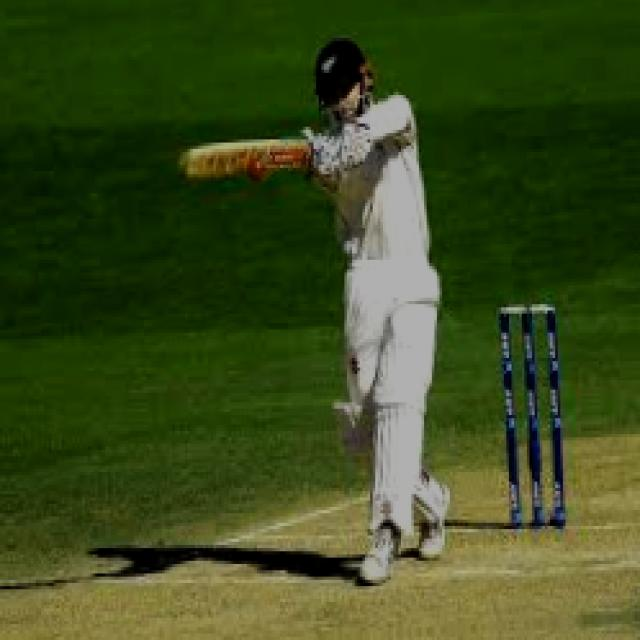toe: (174, 145, 209, 187)
